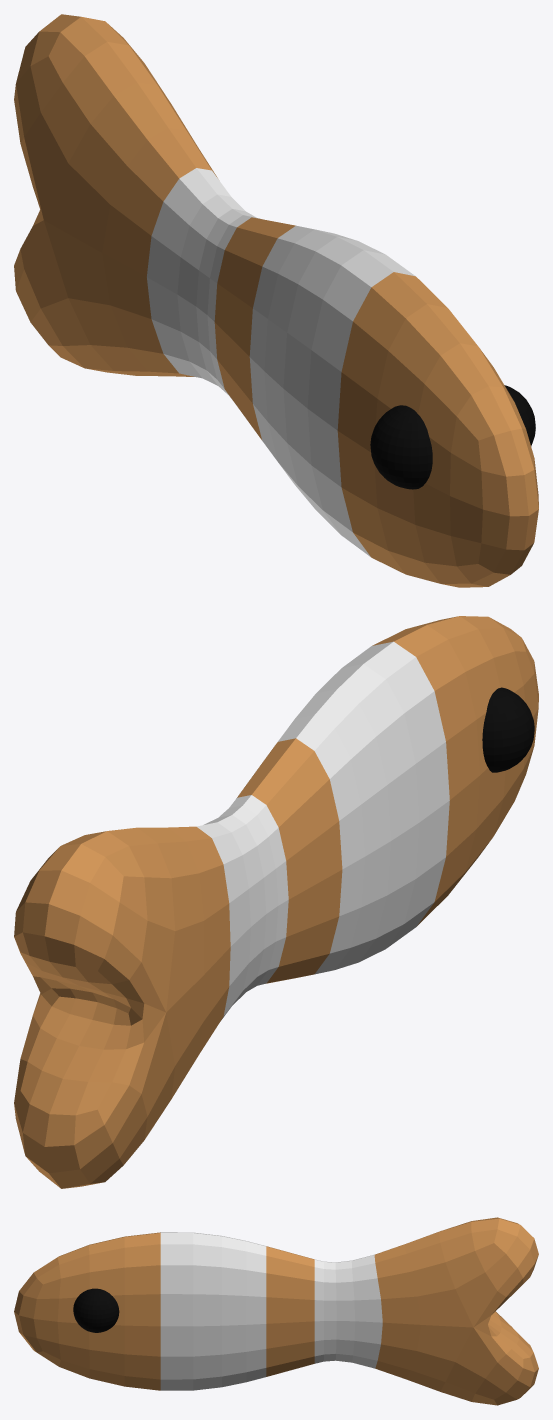
The model's file is FISH COLLECTABLE.fbx.
The picture shows the model from 3 angles, top to bottom: view 1: azimuth 30°, elevation 25°; view 2: azimuth 150°, elevation 25°; view 3: azimuth 270°, elevation 25°; orthographic projection. The views are drawn at different scales.
Parts seen in each view (by area): view 1: FISH COLLECTABLE; view 2: FISH COLLECTABLE; view 3: FISH COLLECTABLE.
Part boxes in pixels (x1,y1,x2,y2): FISH COLLECTABLE: (14, 14, 538, 587); FISH COLLECTABLE: (14, 616, 538, 1188); FISH COLLECTABLE: (14, 1217, 538, 1405).
Size of the model in its own units: 22.1 by 47.02 by 120.
